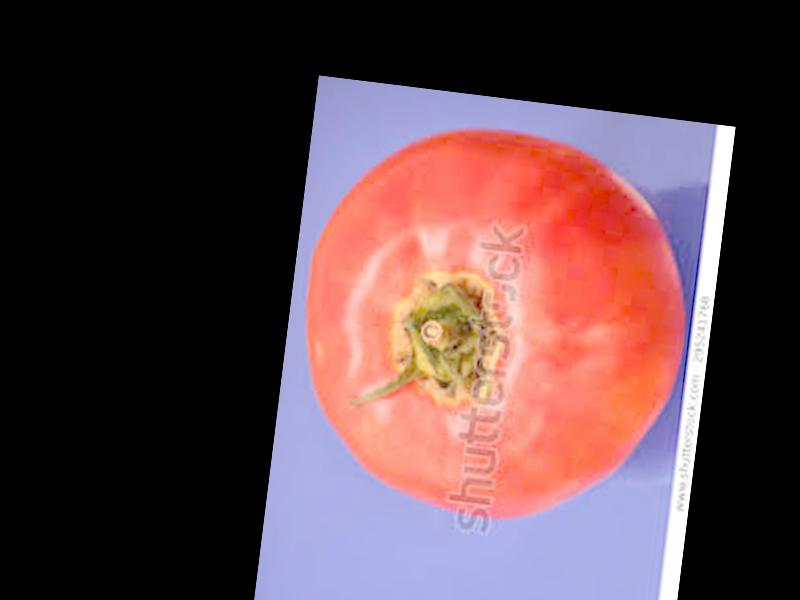Tomato: (282, 107, 698, 538)
